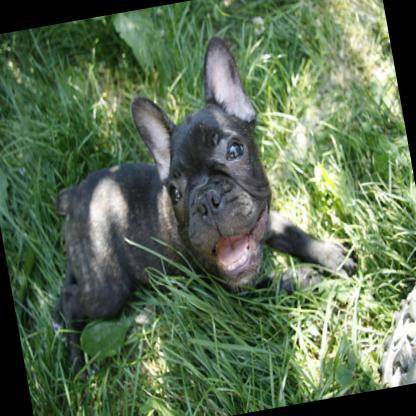French_bulldog: (14, 16, 367, 380)
